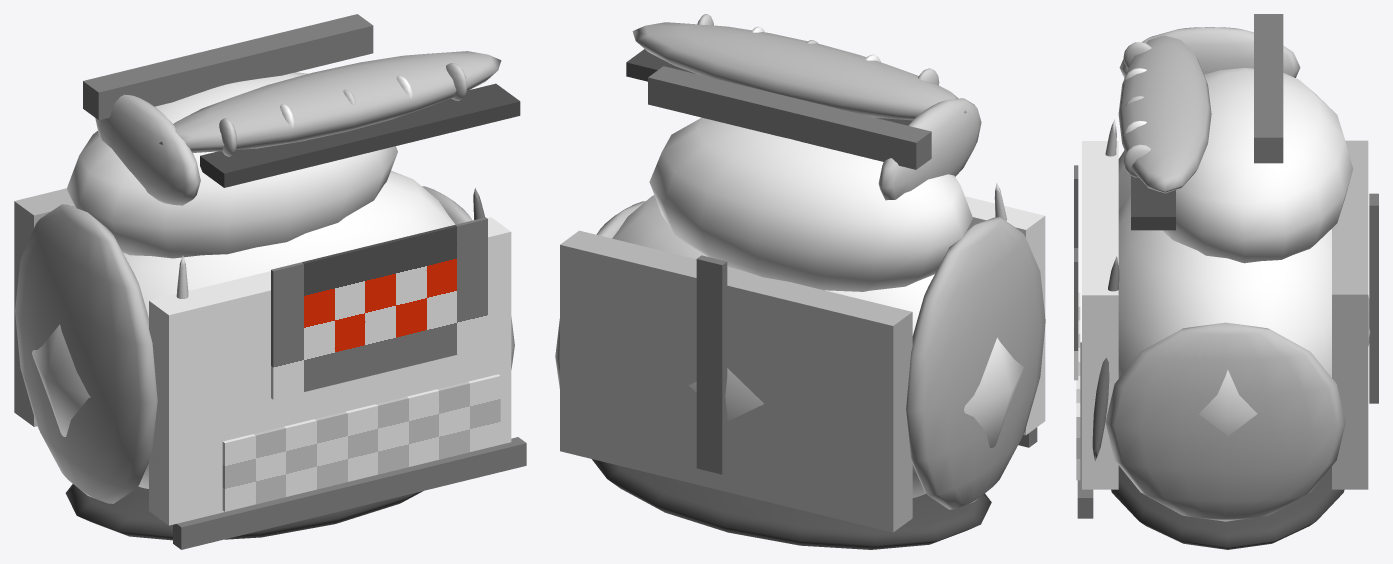
Rendered from CMU3DReagentContainerSugarCloud.glb.
3 renders of one model, left to right at view 1: azimuth 30°, elevation 25°; view 2: azimuth 150°, elevation 25°; view 3: azimuth 270°, elevation 25°, orthographic. The views are drawn at different scales.
Visible parts, largest first — view 1: flat front paper panel, left folded paper gusset, original colored label, full sack shoulders, original lower paper weave, fold-over paper lip, rounded full paper sack belly, folded top back ridge, bottom stitched fold, shadow below rolled closure, left closure fold, folded paper sack flat sole (+2 smaller); view 2: back paper panel, full sack shoulders, left folded paper gusset, fold-over paper lip, folded paper sack flat sole, folded top back ridge, rounded full paper sack belly, rear folded seam, left closure fold, flat front paper panel, shadow below rolled closure, right folded paper gusset; view 3: right folded paper gusset, full sack shoulders, rounded full paper sack belly, back paper panel, flat front paper panel, fold-over paper lip, folded paper sack flat sole, folded top back ridge, left closure fold, rear folded seam, shadow below rolled closure, right front paper crease (+5 smaller).
Part boxes in pixels (box(x1,y1,x2,y2)): flat front paper panel: box(149, 217, 511, 525); left folded paper gusset: box(15, 204, 157, 503); original colored label: box(271, 217, 487, 399); full sack shoulders: box(66, 72, 397, 258); original lower paper weave: box(222, 374, 500, 511); fold-over paper lip: box(159, 51, 501, 152); rounded full paper sack belly: box(32, 170, 455, 488); folded top back ridge: box(83, 14, 373, 120); bottom stitched fold: box(173, 437, 526, 549); shadow below rolled closure: box(200, 83, 520, 187); left closure fold: box(95, 94, 200, 205); folded paper sack flat sole: box(65, 484, 422, 540); back paper panel: box(560, 230, 912, 532); full sack shoulders: box(649, 117, 972, 291); left folded paper gusset: box(906, 217, 1045, 509); fold-over paper lip: box(632, 22, 966, 120); folded paper sack flat sole: box(592, 459, 991, 549); folded top back ridge: box(648, 66, 931, 169); rounded full paper sack belly: box(612, 195, 1023, 497); rear folded seam: box(696, 255, 727, 474); left closure fold: box(878, 98, 981, 200); flat front paper panel: box(965, 196, 1045, 435); shadow below rolled closure: box(626, 49, 912, 125); right folded paper gusset: box(555, 201, 645, 388); right folded paper gusset: box(1105, 322, 1345, 521); full sack shoulders: box(1163, 68, 1352, 263); rounded full paper sack belly: box(1118, 195, 1370, 436); back paper panel: box(1332, 140, 1368, 489); flat front paper panel: box(1082, 141, 1118, 489); fold-over paper lip: box(1118, 35, 1211, 193); folded paper sack flat sole: box(1111, 465, 1344, 549); folded top back ridge: box(1254, 14, 1283, 163); left closure fold: box(1119, 27, 1300, 77); rear folded seam: box(1369, 193, 1378, 403); shadow below rolled closure: box(1131, 175, 1175, 230); right front paper crease: box(1092, 256, 1119, 461).
Size of what is drawn, in the model's own units: 0.439 by 0.4235 by 0.2915.
7 materials, 2 textured.
